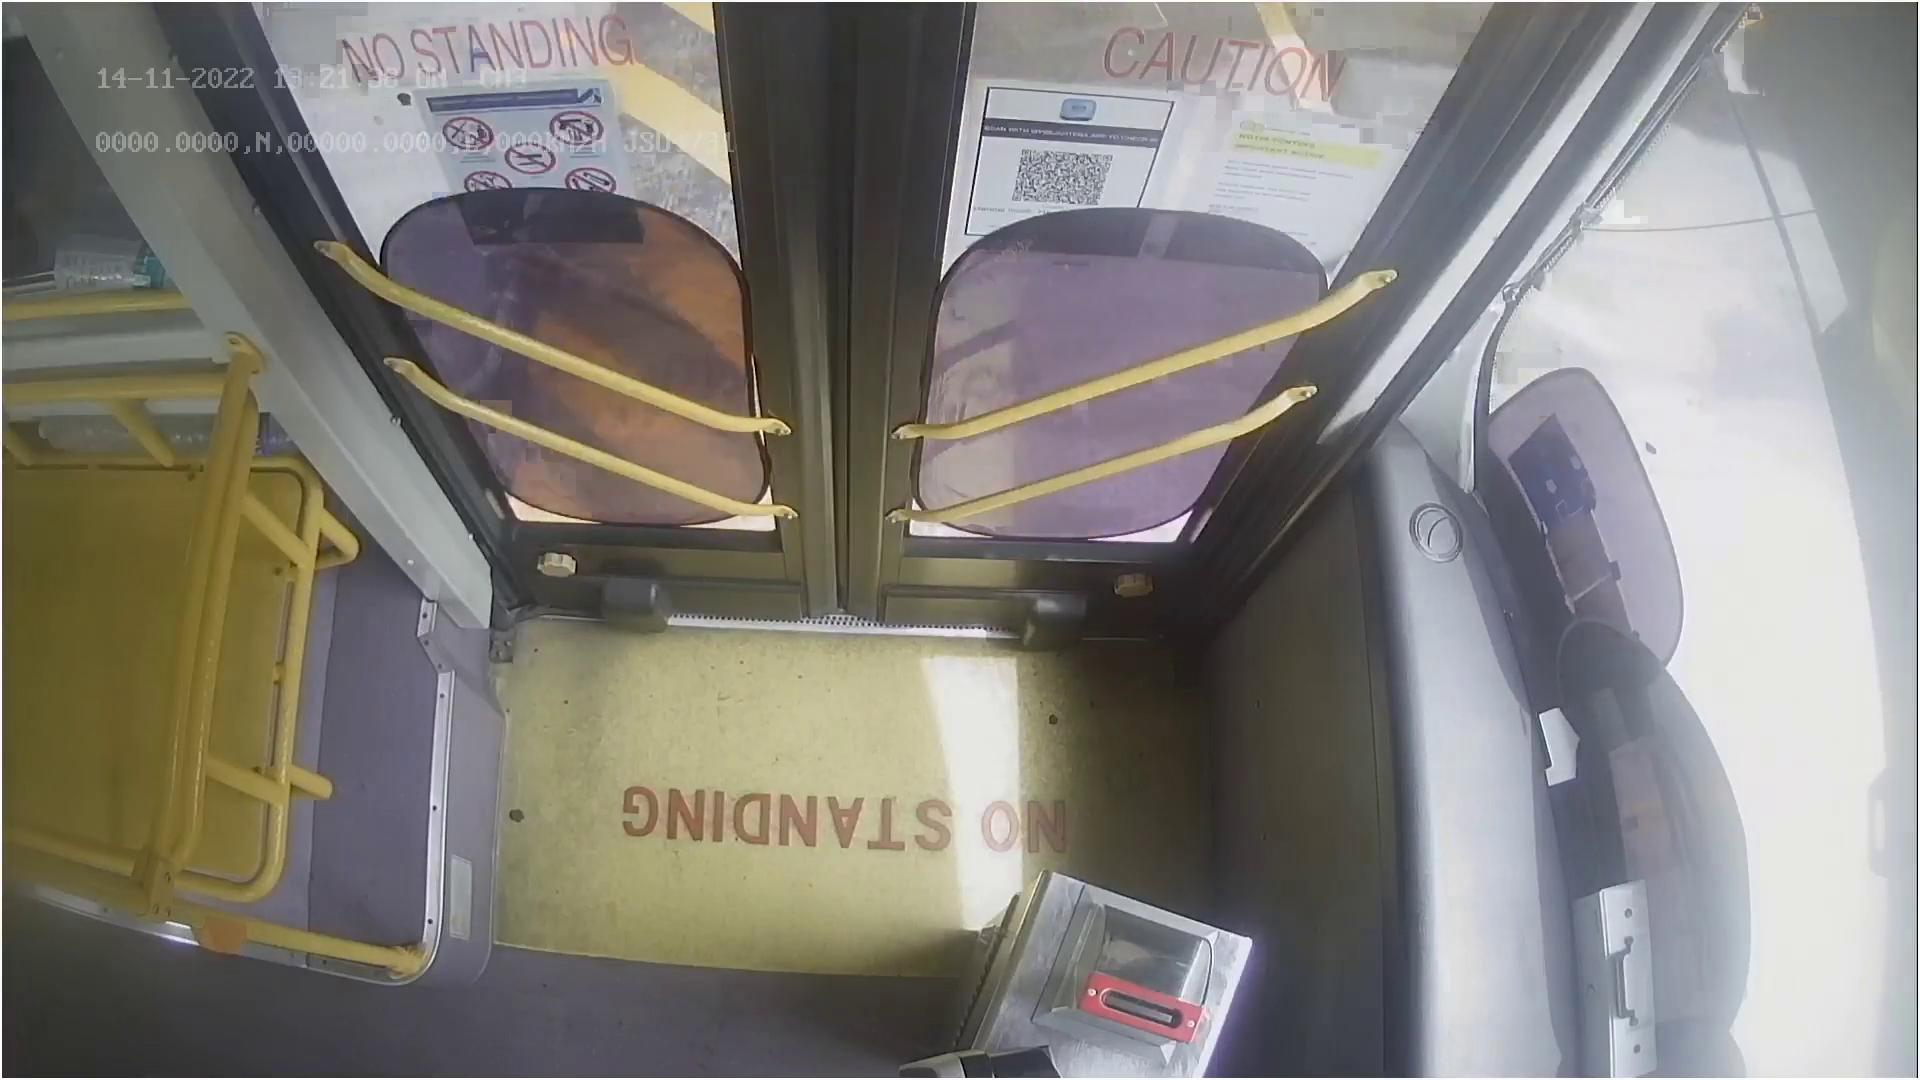close: (290, 0, 1451, 150)
